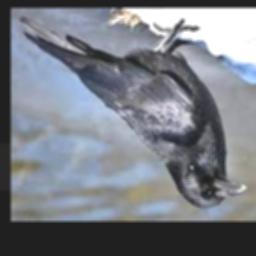Crow: (17, 15, 246, 208)
